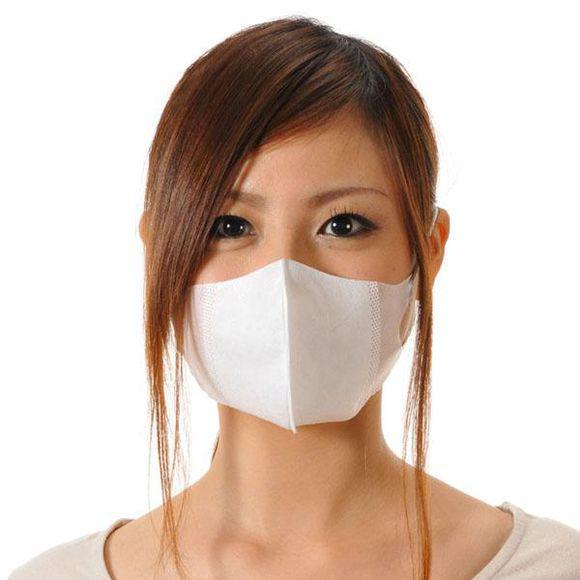OK: (180, 148, 404, 436)
